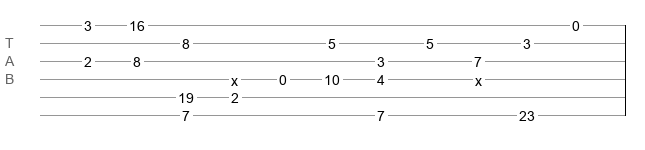0: (279, 72, 287, 82), (572, 18, 580, 28)
10: (324, 72, 340, 82)
16: (129, 18, 145, 28)
19: (178, 90, 194, 100)
2: (84, 54, 92, 64), (231, 90, 239, 100)
23: (519, 108, 535, 118)
3: (84, 18, 92, 28), (377, 54, 385, 64), (523, 36, 531, 46)
4: (377, 72, 385, 82)
5: (328, 36, 336, 46), (426, 36, 434, 46)
7: (182, 108, 190, 118), (377, 108, 385, 118), (474, 54, 482, 64)
8: (133, 54, 141, 64), (182, 36, 190, 46)
x: (231, 73, 238, 81), (475, 73, 482, 81)
